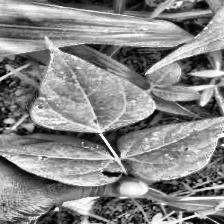ALS: (30, 46, 154, 128), (119, 114, 224, 180), (0, 137, 121, 187), (157, 0, 224, 70)
